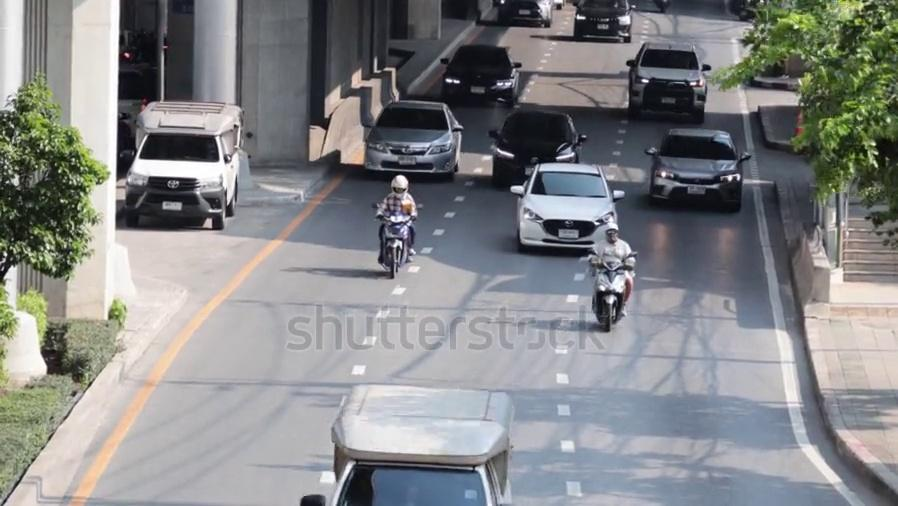rider: (587, 222, 637, 330), (374, 174, 418, 264)
with_helmate: (389, 176, 408, 199), (604, 224, 621, 243)
